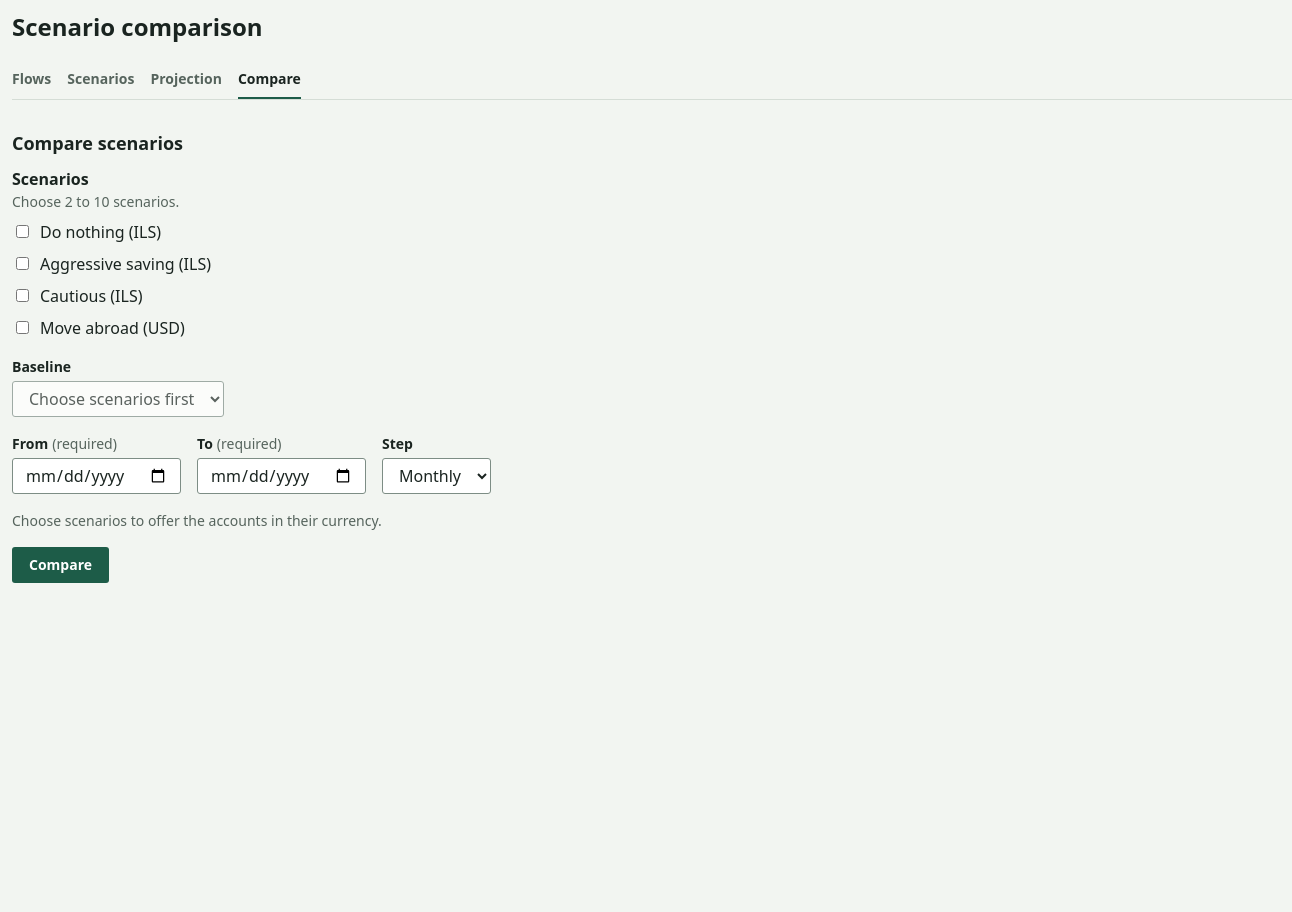
Test case: ComparisonPage › Given_one_scenario_chosen_When_compared_Then_every_checkbox_is_described_by_the_hint_then_an_error_asking_for_two_one_takes_focus_and_nothing_is_sent
Expected: the element "Scenarios" is shown, [12, 168, 211, 338]
Click the checkbox labelled "Do nothing (ILS)": (22, 231) [16, 224, 29, 238]
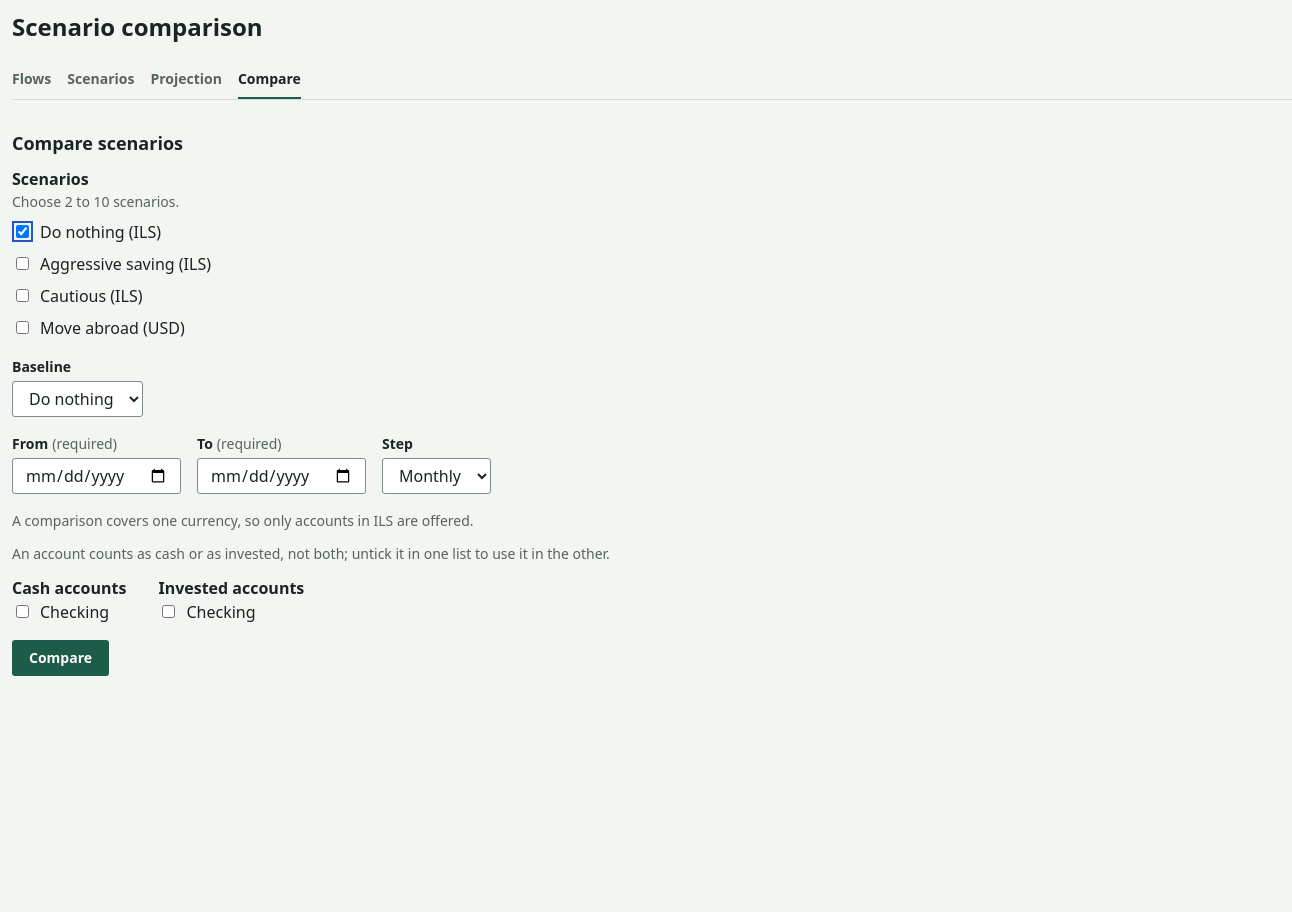
In the date field labelled "From": (96, 476) [12, 458, 181, 494], type "2026-09-01"
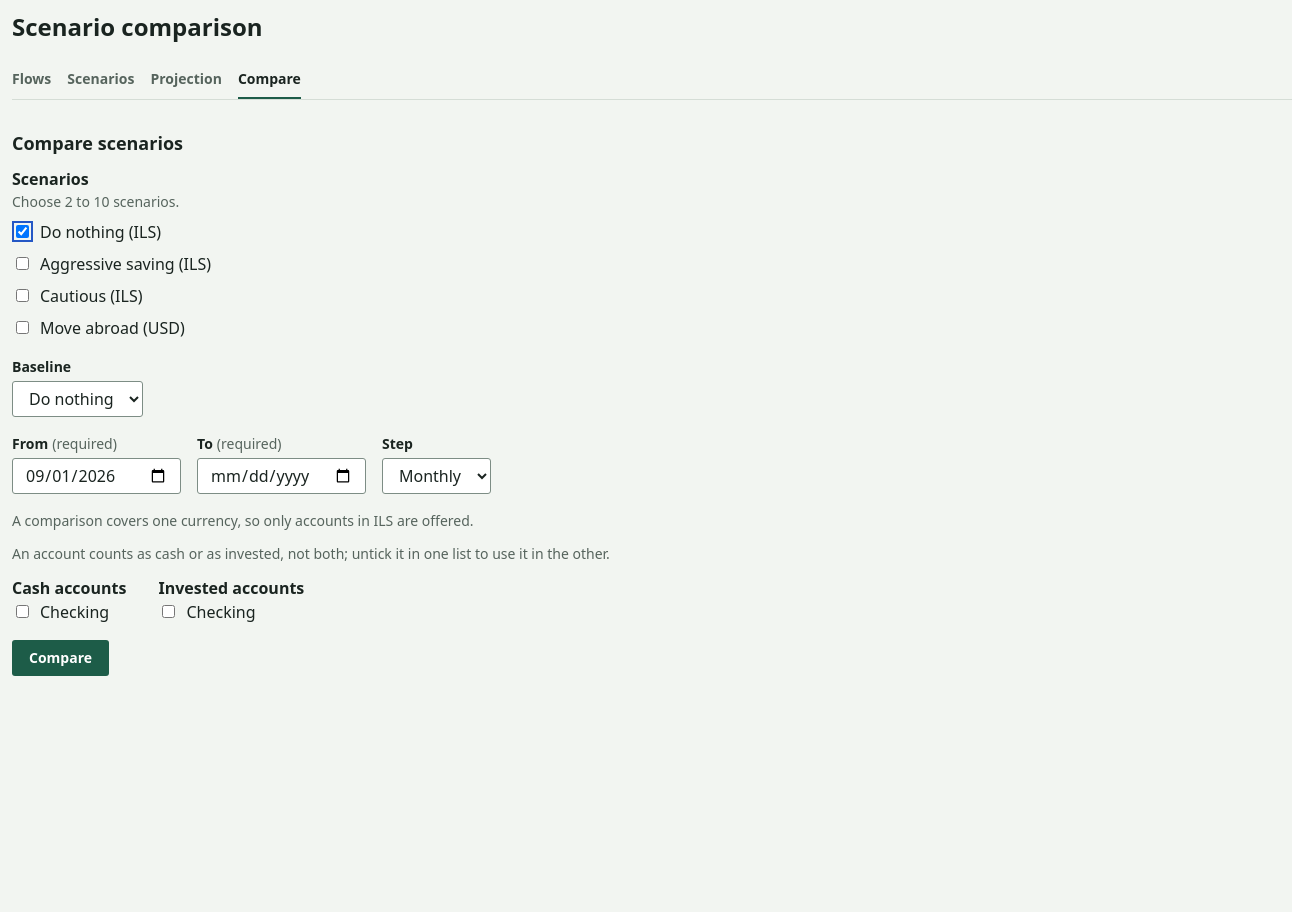
In the date field labelled "To": (282, 476) [197, 458, 366, 494], type "2026-11-01"
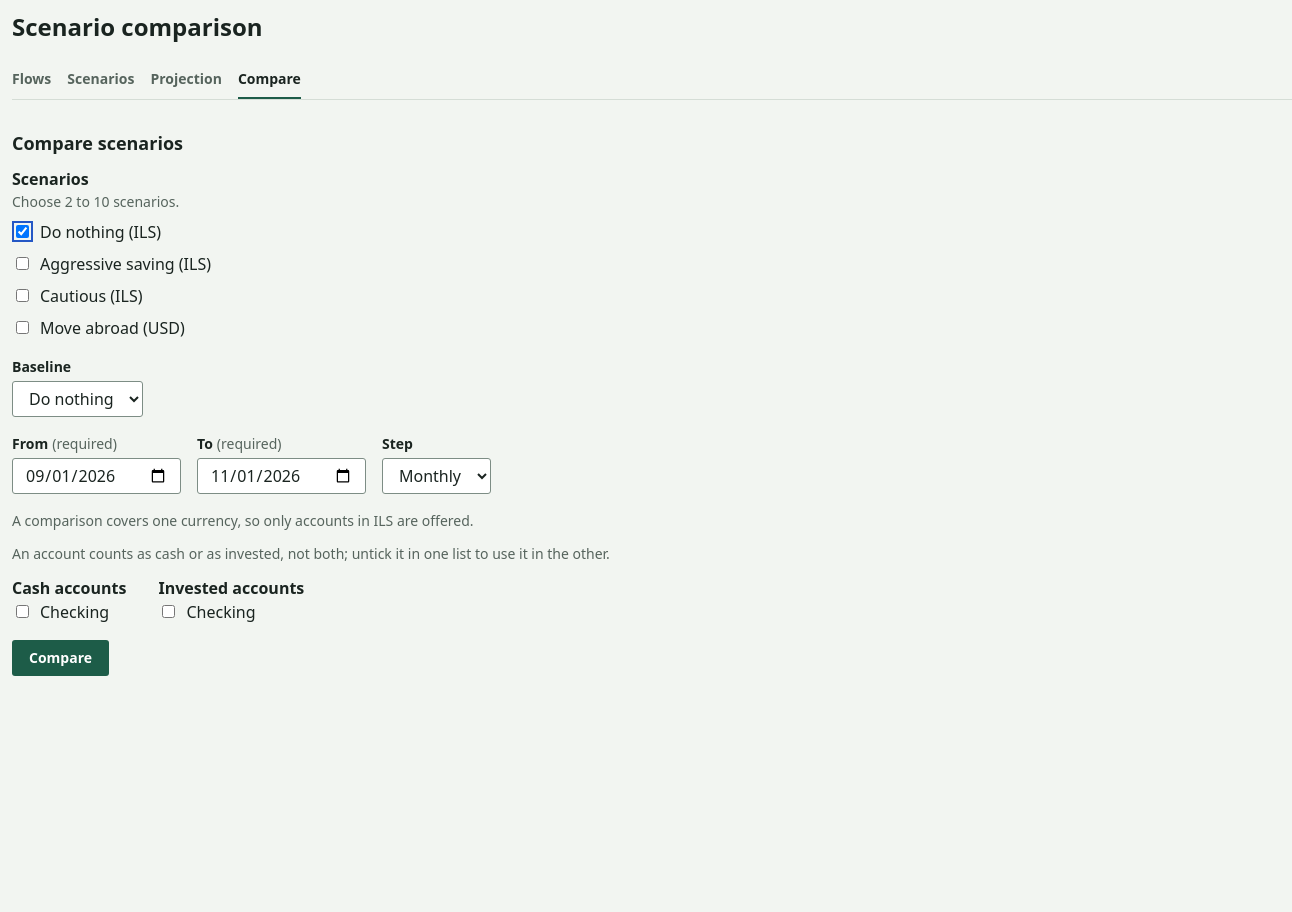
Click the button "Compare": (60, 658) [12, 640, 109, 676]
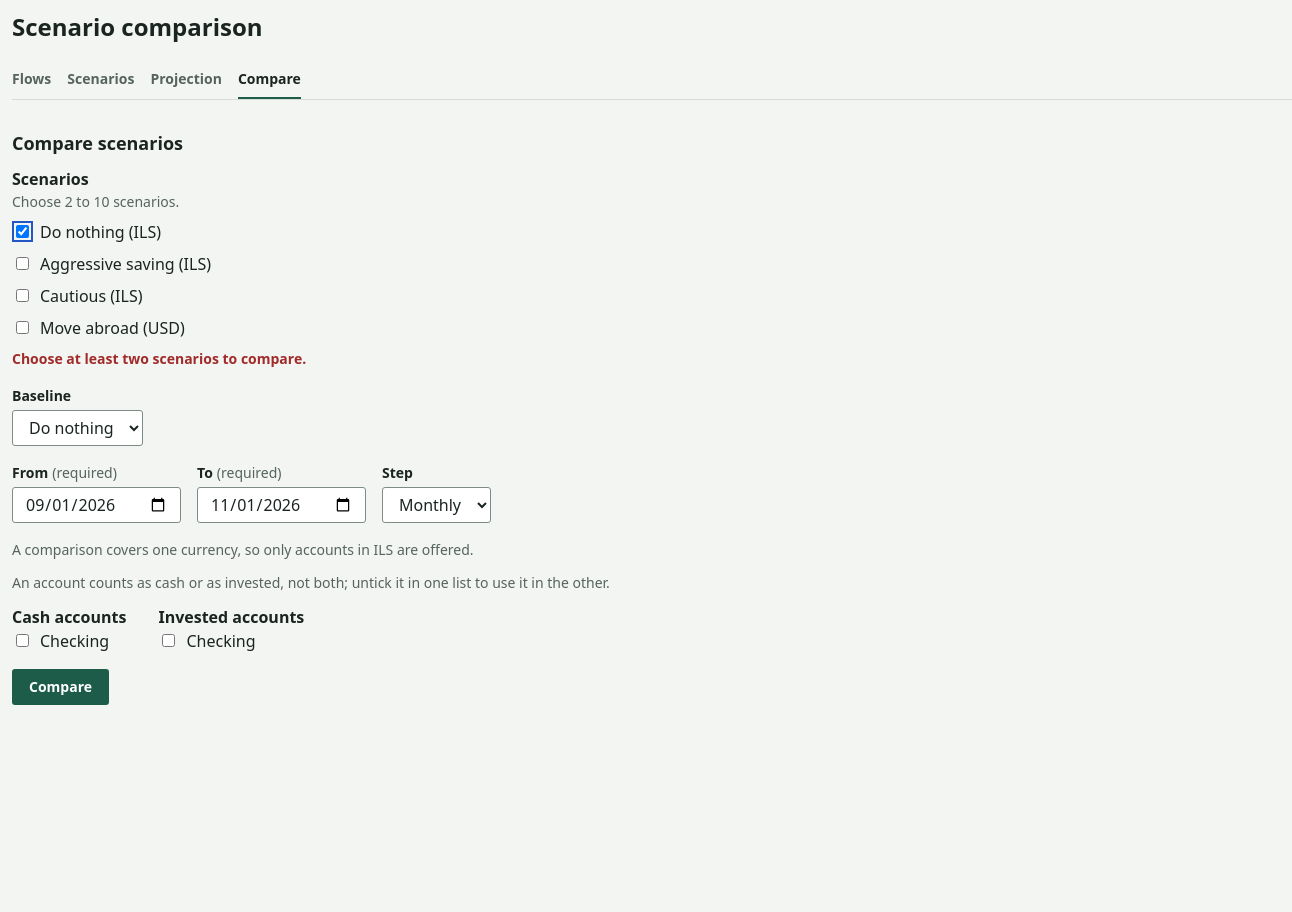
Result: the text "Choose at least two scenarios to compare." is shown at [12, 348, 306, 368]
